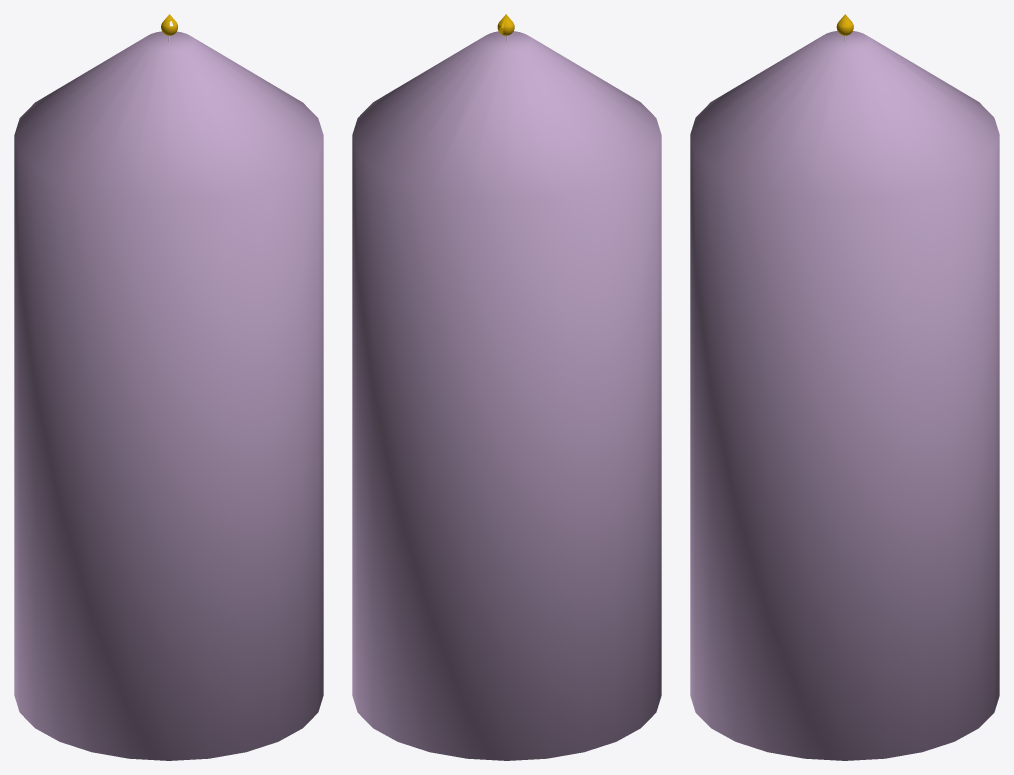
The model's file is candle.obj.
3 views of the same model, side by side, from view 1: azimuth 30°, elevation 25°; view 2: azimuth 150°, elevation 25°; view 3: azimuth 270°, elevation 25° (orthographic).
Parts seen in each view (by area): view 1: Mesh1 Model; view 2: Mesh1 Model; view 3: Mesh1 Model.
Part boxes in pixels (x1,y1,x2,y2): Mesh1 Model: (14,14,323,760); Mesh1 Model: (352,14,661,760); Mesh1 Model: (690,14,999,760).
Size of the model in its own units: 3 by 7.29 by 3.
